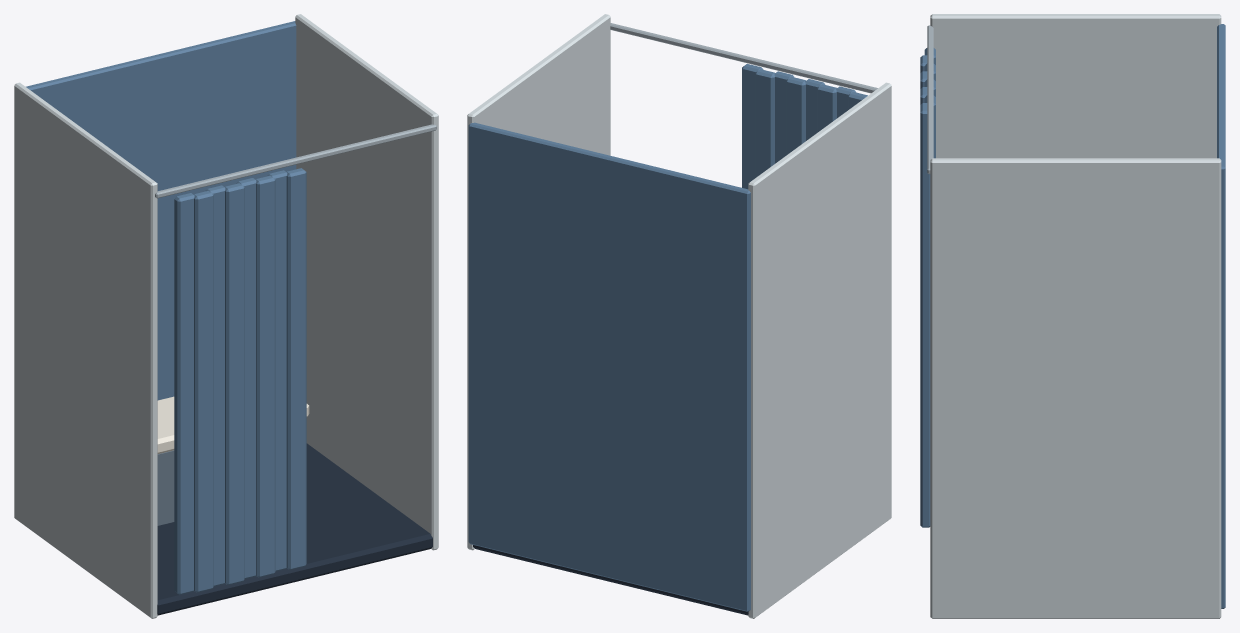
Rendered from mall_07.glb.
3 views of the same model, side by side, from view 1: azimuth 30°, elevation 25°; view 2: azimuth 150°, elevation 25°; view 3: azimuth 270°, elevation 25° (orthographic). The views are drawn at different scales.
Visible parts, largest first — view 1: ChangingSide (×2), CurtainPleat (×8), ChangingBack, ChangingFloor, CurtainRail, BenchPlinth, FittingBench; view 2: ChangingBack, ChangingSide (×2), CurtainPleat (×6), CurtainRail, ChangingFloor; view 3: ChangingSide (×2), CurtainPleat, ChangingBack, CurtainRail.
Boxes of the visible parts, bbox=[...] form: ChangingSide (×2): bbox=[14, 14, 438, 618]; CurtainPleat (×8): bbox=[174, 168, 306, 594]; ChangingBack: bbox=[26, 21, 296, 400]; ChangingFloor: bbox=[157, 443, 432, 615]; CurtainRail: bbox=[155, 124, 436, 198]; BenchPlinth: bbox=[157, 450, 174, 525]; FittingBench: bbox=[157, 396, 309, 453]; ChangingBack: bbox=[468, 122, 750, 611]; ChangingSide (×2): bbox=[467, 14, 891, 618]; CurtainPleat (×6): bbox=[742, 64, 836, 189]; CurtainRail: bbox=[610, 23, 877, 93]; ChangingFloor: bbox=[473, 545, 748, 615]; ChangingSide (×2): bbox=[930, 14, 1221, 618]; CurtainPleat: bbox=[920, 103, 930, 527]; ChangingBack: bbox=[1217, 24, 1225, 608]; CurtainRail: bbox=[927, 25, 933, 174].
Size of the model in its own units: 1.39 by 2 by 1.21.
